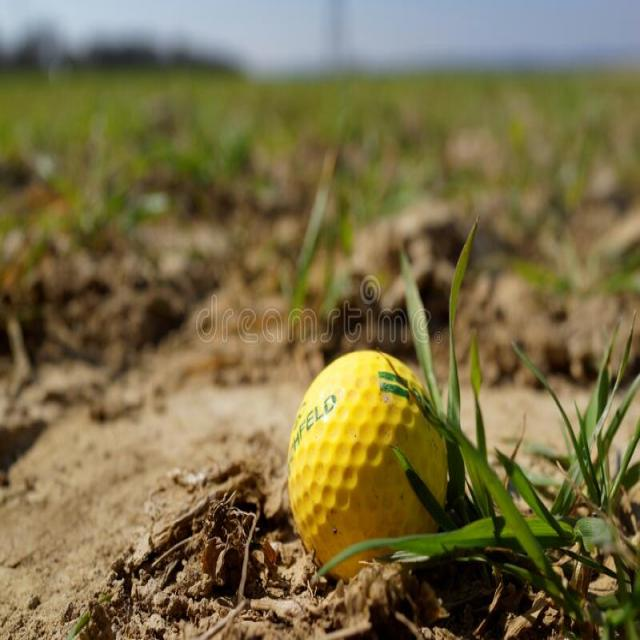golfball: (286, 337, 459, 586)
